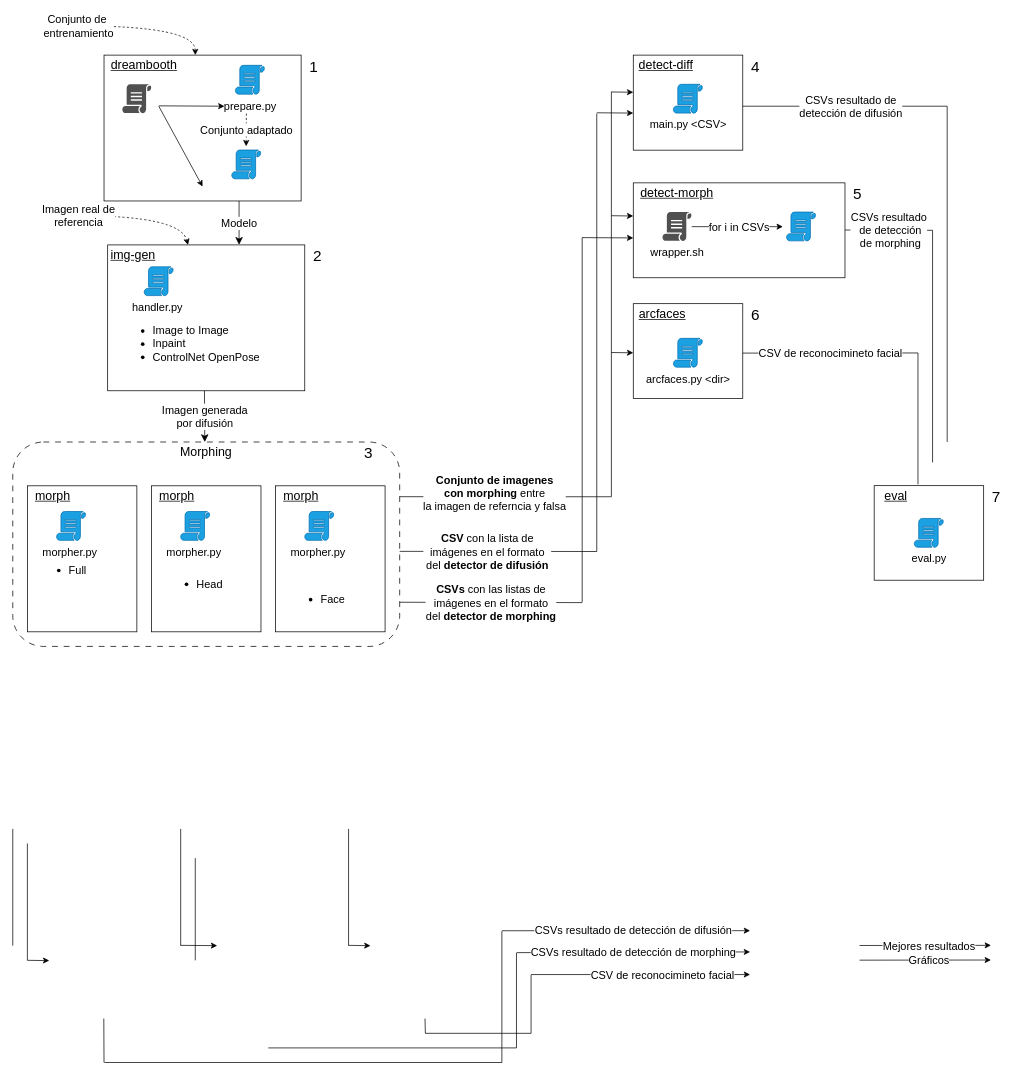
This 1022x1076 diagram has some shape labels left out. Here are the shapes that lost their labels. From the top down, the box of each, then its label:
(122, 84, 151, 113): train.sh
(231, 149, 261, 179): train_dreambooth.py
(786, 211, 816, 241): test.py <CSV>
